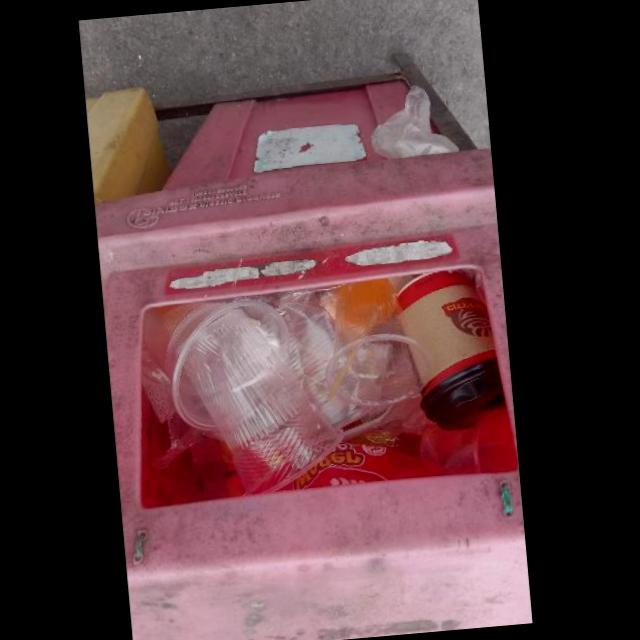bao_bi_thuc_pham: (275, 442, 441, 491)
carton: (394, 268, 503, 428)
hop_nhua: (141, 297, 343, 494), (325, 277, 433, 406)
